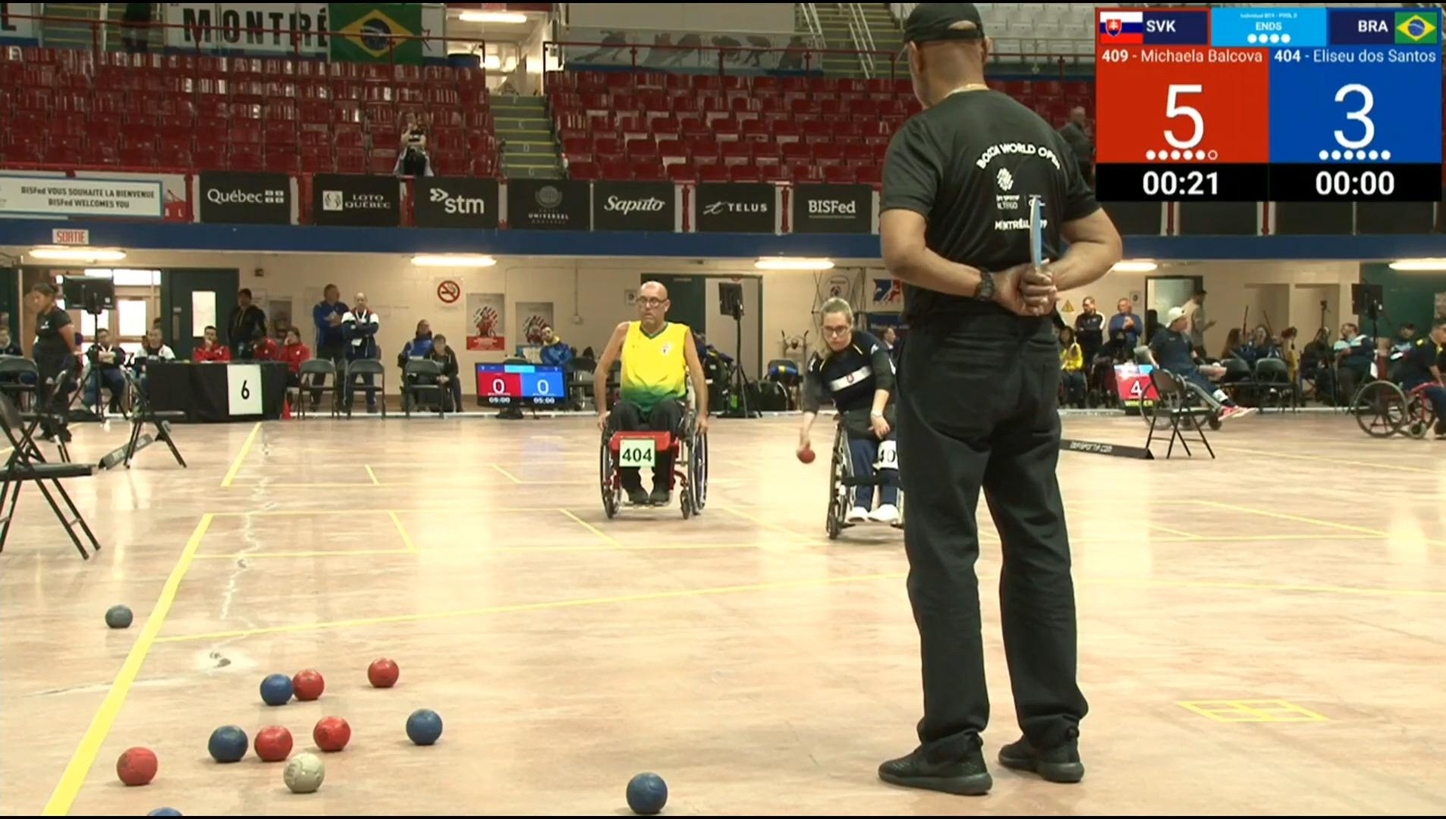blue_ball: (624, 771, 670, 817), (401, 706, 445, 749), (205, 723, 249, 766), (256, 671, 294, 708)
red_ball: (114, 744, 158, 788), (311, 714, 353, 756), (252, 724, 295, 765), (289, 667, 325, 704), (364, 656, 401, 690)
white_ball: (280, 750, 327, 797)
